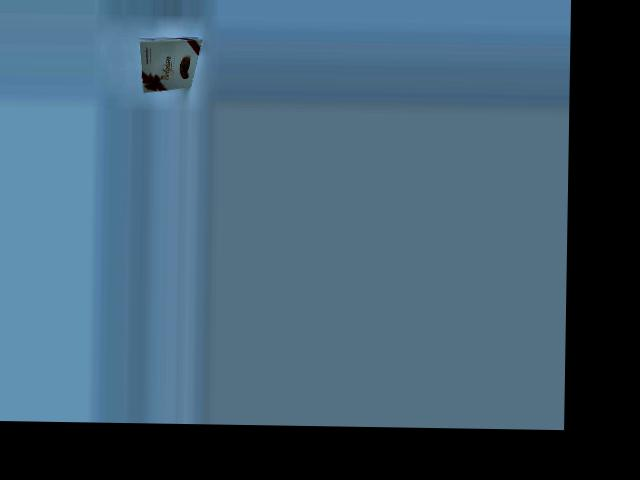chocolate: (140, 24, 204, 94)
